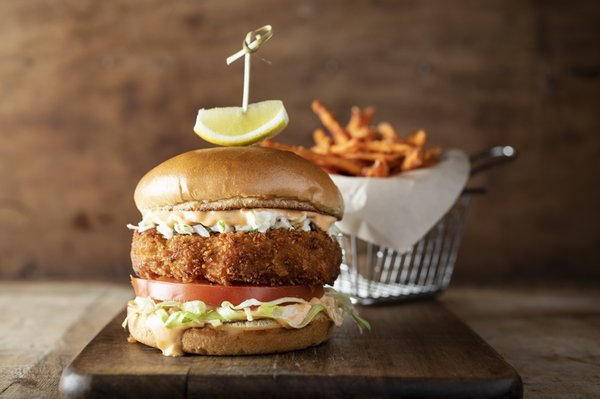soup: (123, 146, 347, 357)
